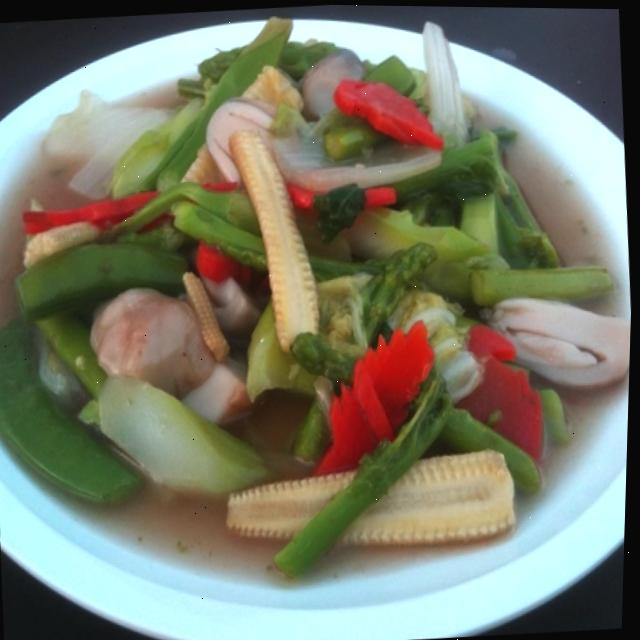蔬菜料理: (0, 24, 628, 597)
